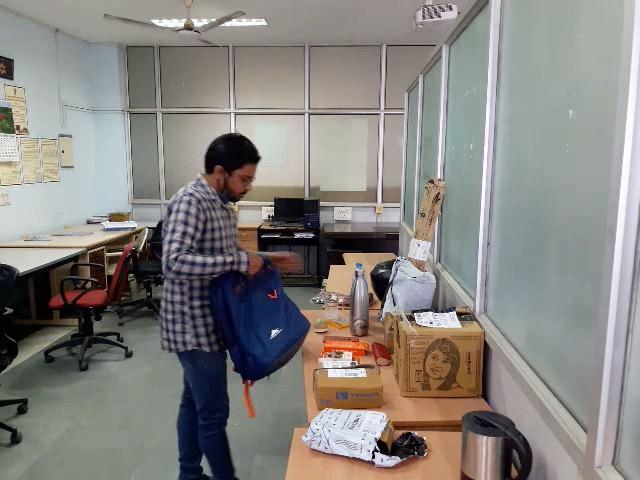shoplifting: (79, 211, 341, 380)
